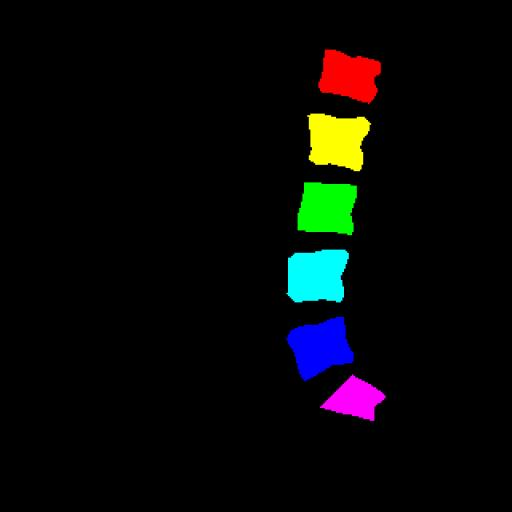L1: (318, 50, 381, 102)
L2: (308, 114, 370, 171)
L3: (298, 182, 357, 234)
L4: (287, 249, 349, 302)
L5: (287, 317, 353, 380)
S1: (321, 375, 386, 421)
